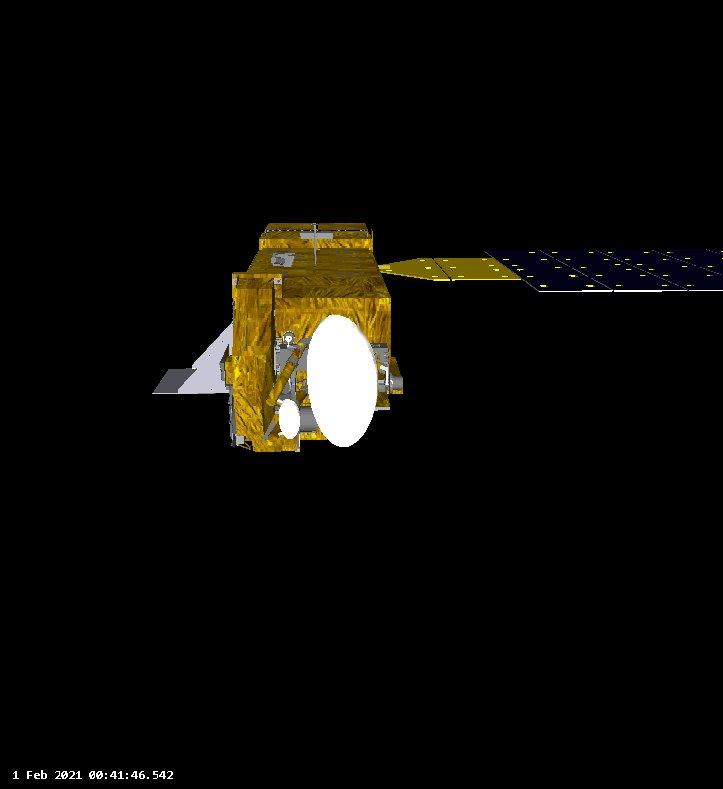antenna: (306, 313, 380, 449), (277, 397, 304, 441)
body: (217, 219, 405, 455)
solar: (481, 236, 723, 294)
